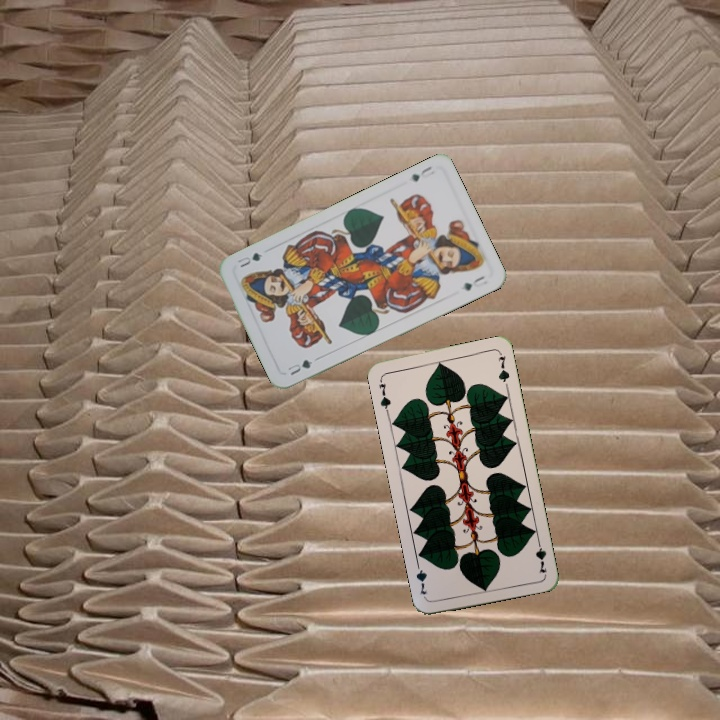G7: (531, 535, 549, 576), (375, 374, 393, 415)
GU: (283, 355, 315, 378), (406, 162, 438, 184)
